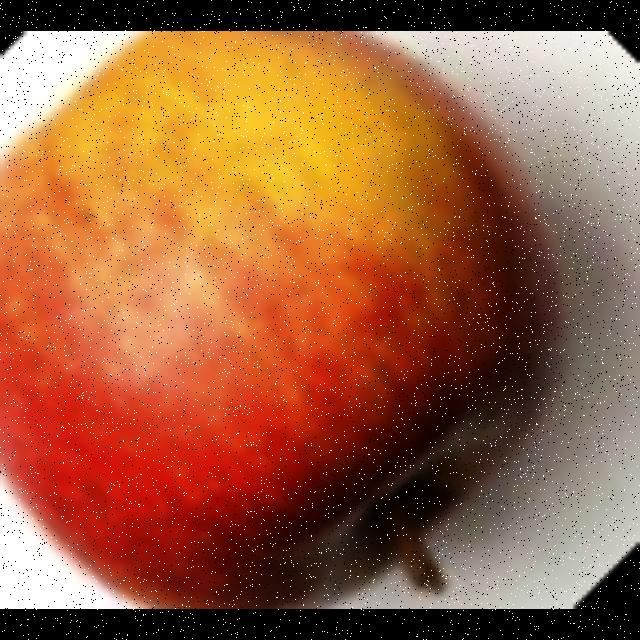Apel Segar: (1, 31, 562, 609)
